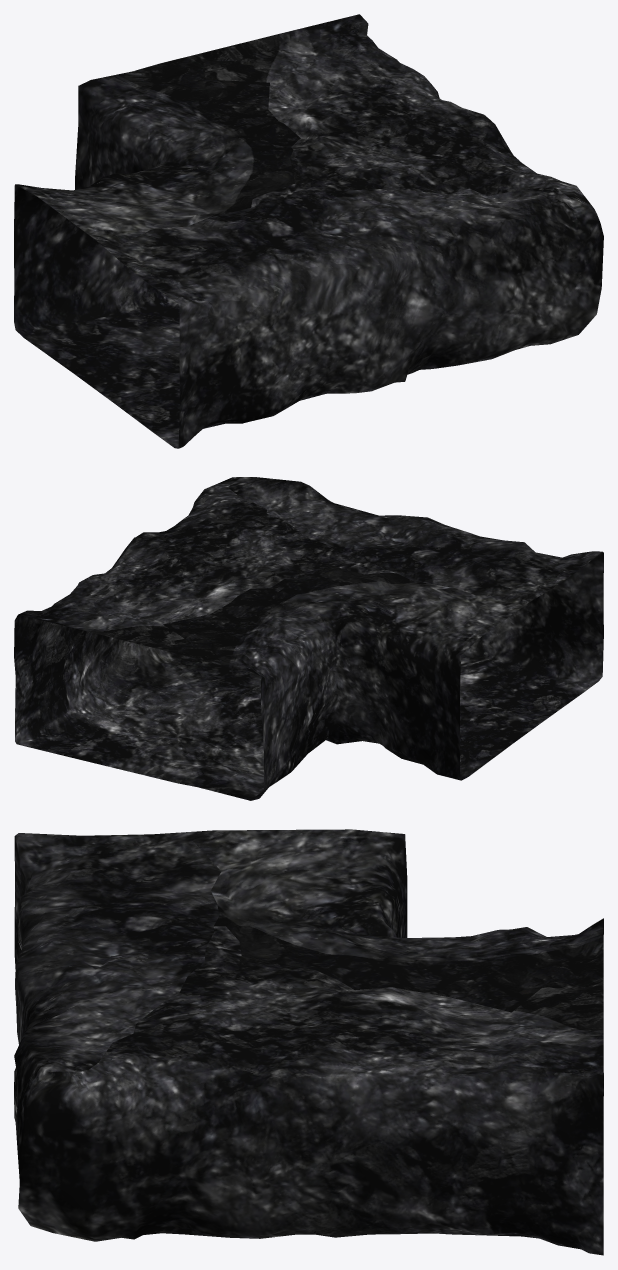
The picture shows the model from 3 angles, top to bottom: view 1: azimuth 30°, elevation 25°; view 2: azimuth 150°, elevation 25°; view 3: azimuth 270°, elevation 25°; orthographic projection. The views are drawn at different scales.
Visible parts, largest first — view 1: tunnel4; view 2: tunnel4; view 3: tunnel4.
Part boxes in pixels (box(x1,y1,x2,y2)): tunnel4: box(14, 14, 603, 448); tunnel4: box(14, 477, 603, 800); tunnel4: box(14, 829, 603, 1255).
Size of the model in its own units: 293 by 292 by 98.03.
